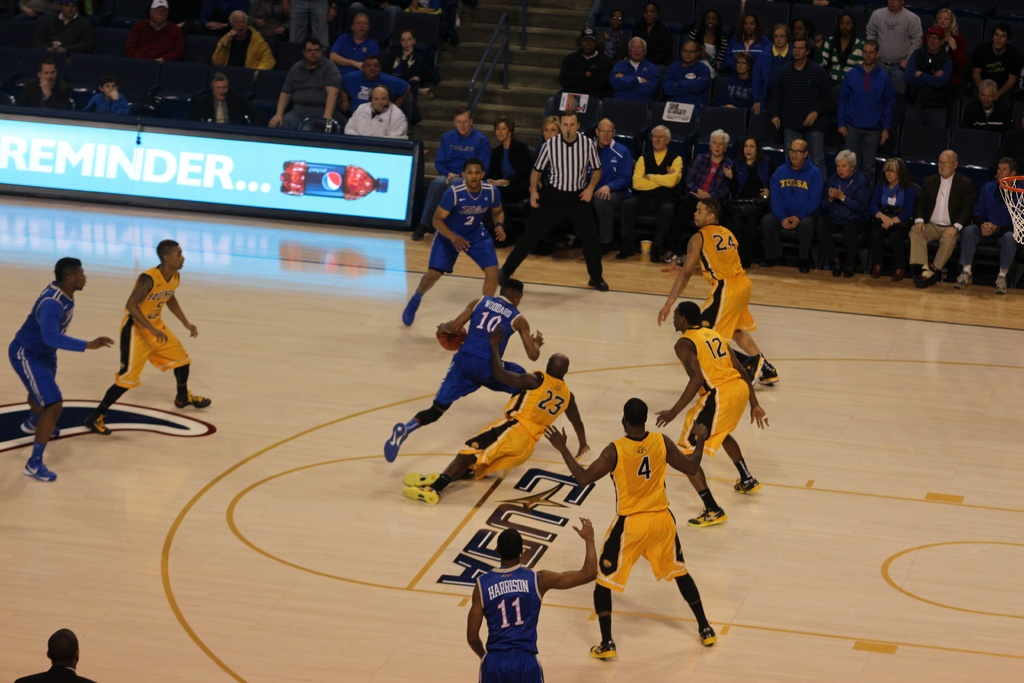Ball: (438, 325, 466, 350)
